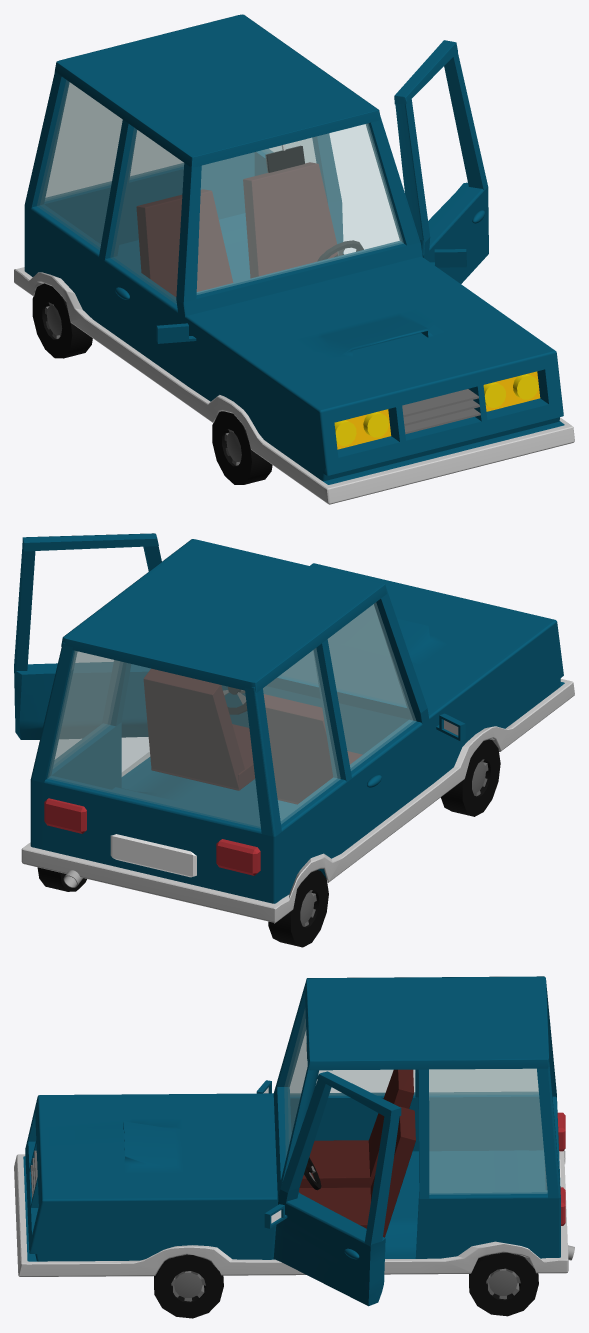
The model's file is Car3.fbx.
3 views of the same model, one above another, from view 1: azimuth 30°, elevation 25°; view 2: azimuth 150°, elevation 25°; view 3: azimuth 270°, elevation 25° (orthographic). The views are drawn at different scales.
Parts seen in each view (by area): view 1: Car; view 2: Car; view 3: Car.
Boxes of the visible parts, bbox=[...] form: Car: bbox=[14, 14, 574, 504]; Car: bbox=[14, 533, 574, 947]; Car: bbox=[14, 976, 574, 1318].
Size of the model in its own units: 11.13 by 7.52 by 15.44.
